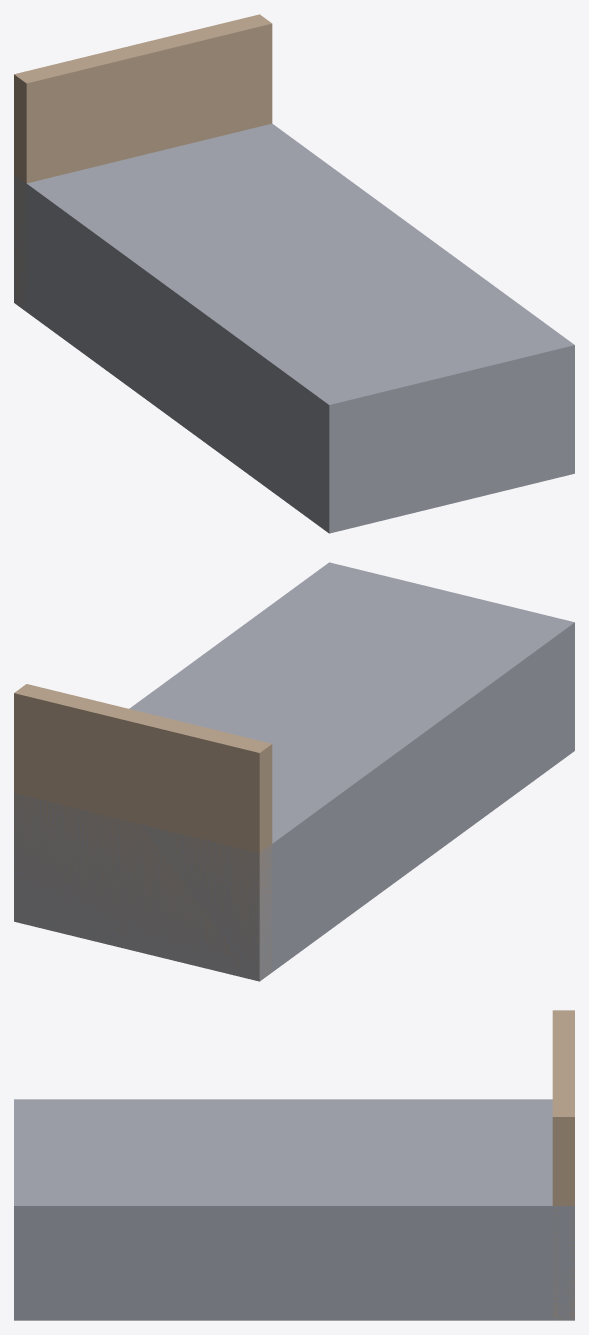
Rendered from bed_single.glb.
3 views of the same model, one above another, from view 1: azimuth 30°, elevation 25°; view 2: azimuth 150°, elevation 25°; view 3: azimuth 270°, elevation 25° (orthographic). The views are drawn at different scales.
Parts seen in each view (by area): view 1: bed_single; view 2: bed_single; view 3: bed_single.
Boxes of the visible parts, box(x1,y1,x2,y2) form: bed_single: box(14, 14, 574, 533); bed_single: box(14, 562, 574, 981); bed_single: box(14, 1010, 574, 1320).
Size of what is drawn, in the model's own units: 0.9 by 0.8 by 2.
